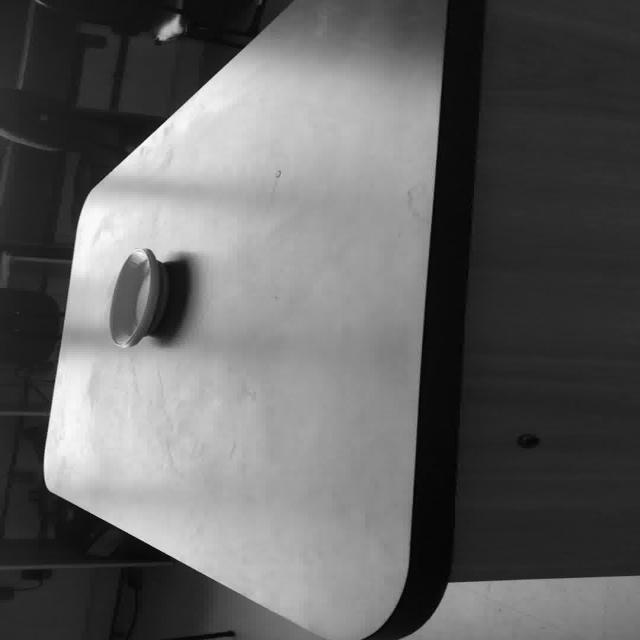plate: (41, 0, 480, 639), (107, 247, 168, 348)
